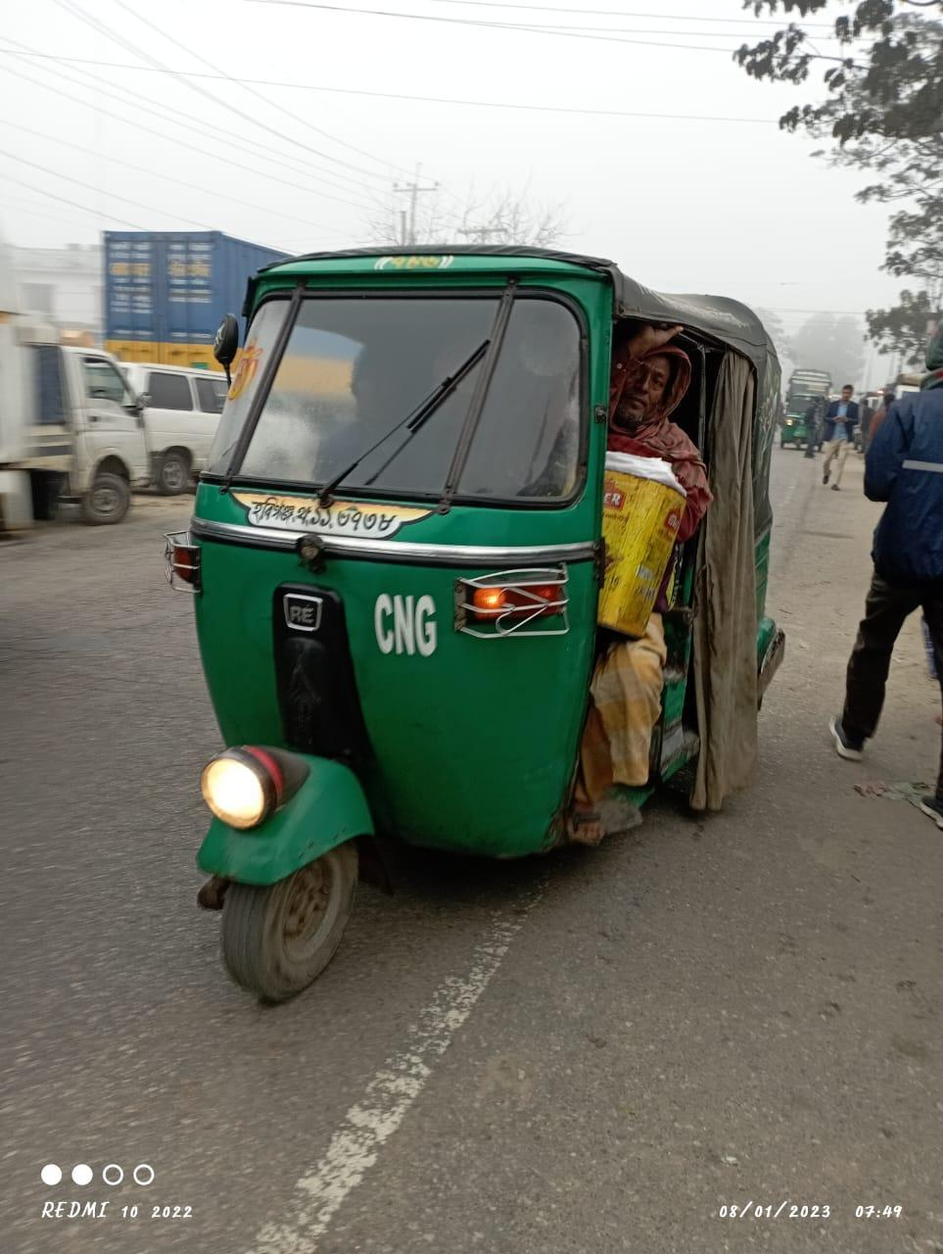Car: (4, 301, 146, 541)
